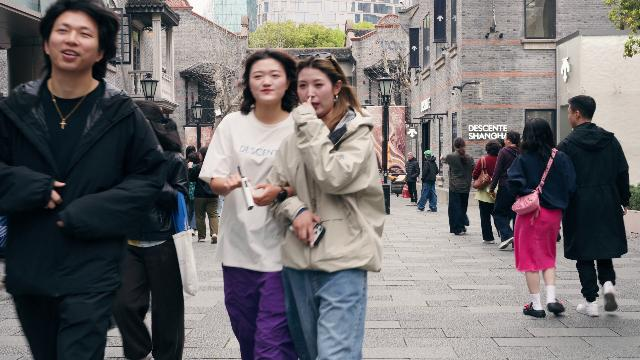person: (0, 0, 168, 360), (254, 50, 386, 360), (199, 47, 304, 360), (556, 95, 631, 316), (506, 117, 577, 318), (488, 130, 520, 250), (440, 137, 475, 236), (472, 140, 502, 244), (182, 131, 204, 250), (414, 150, 440, 212), (404, 152, 421, 206), (497, 138, 504, 149)
